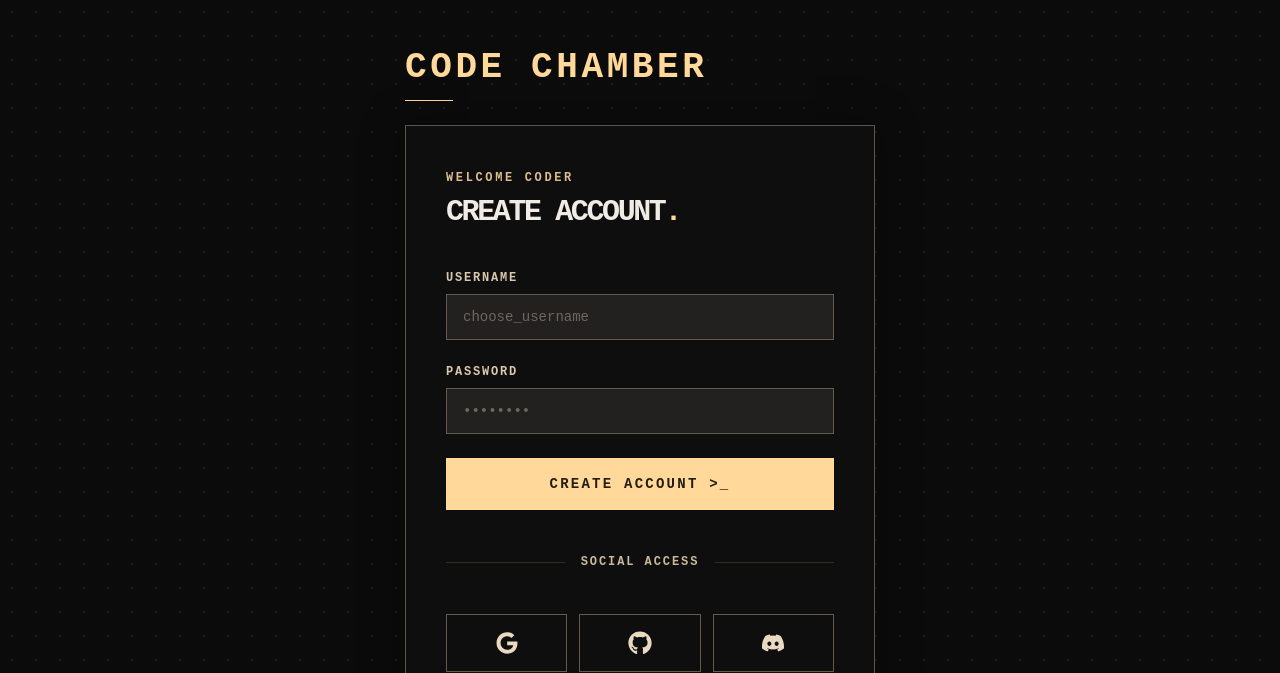
Scenario: Signup - manual submit › shows the server error message when signUp.email returns an error
Type "alice" into the field with placeholder "choose_username" at [640, 317], box [446,294,834,340]
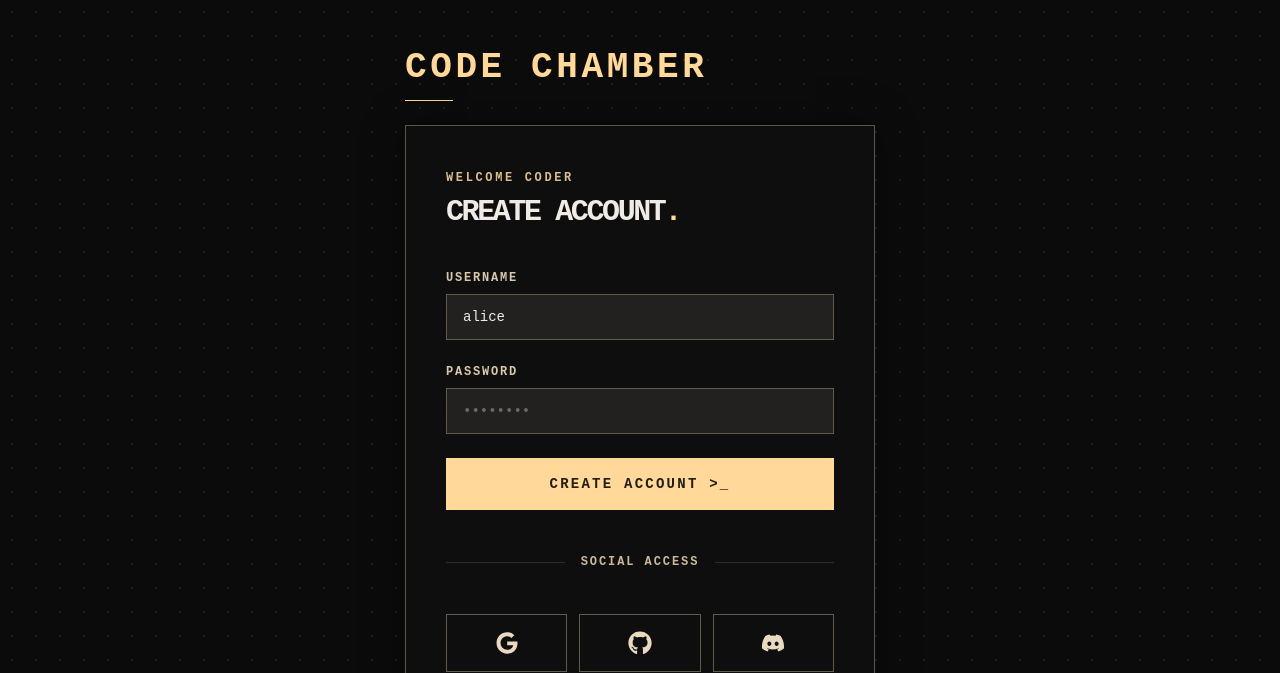
Type "hunter2" into the password field with placeholder "••••••••" at [640, 411], box [446,388,834,434]
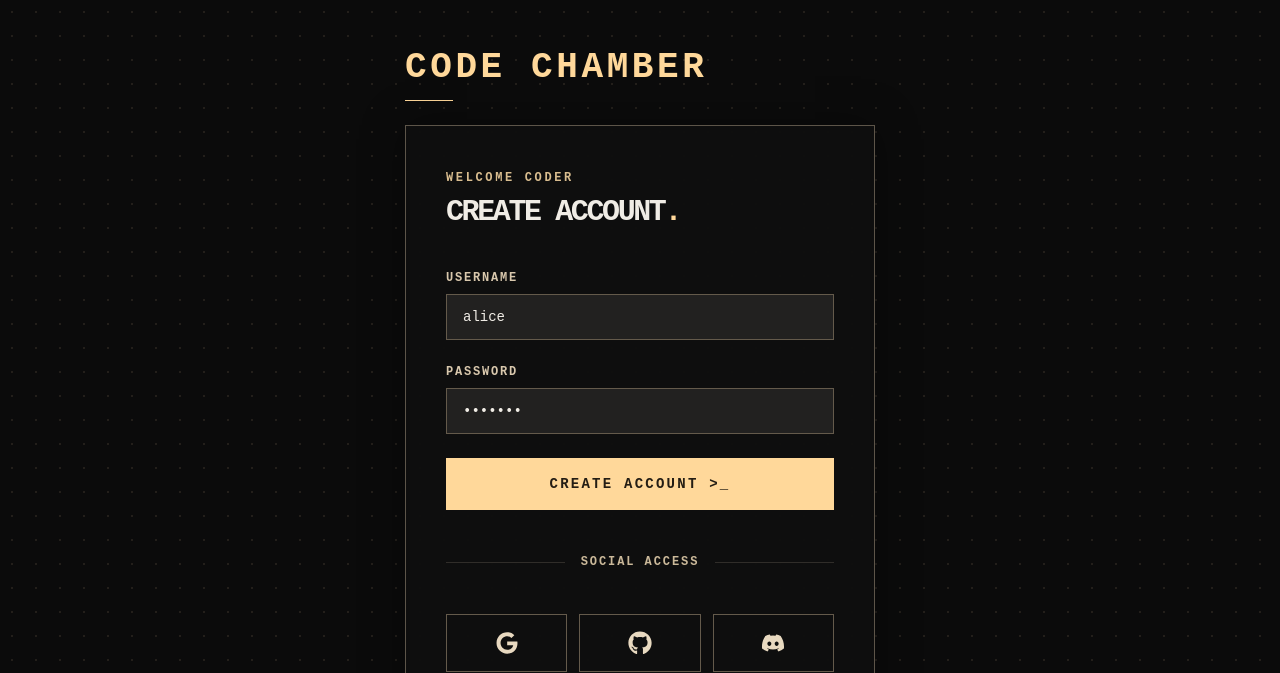
Click the button "CREATE ACCOUNT >_" at [640, 484], box [446,458,834,510]
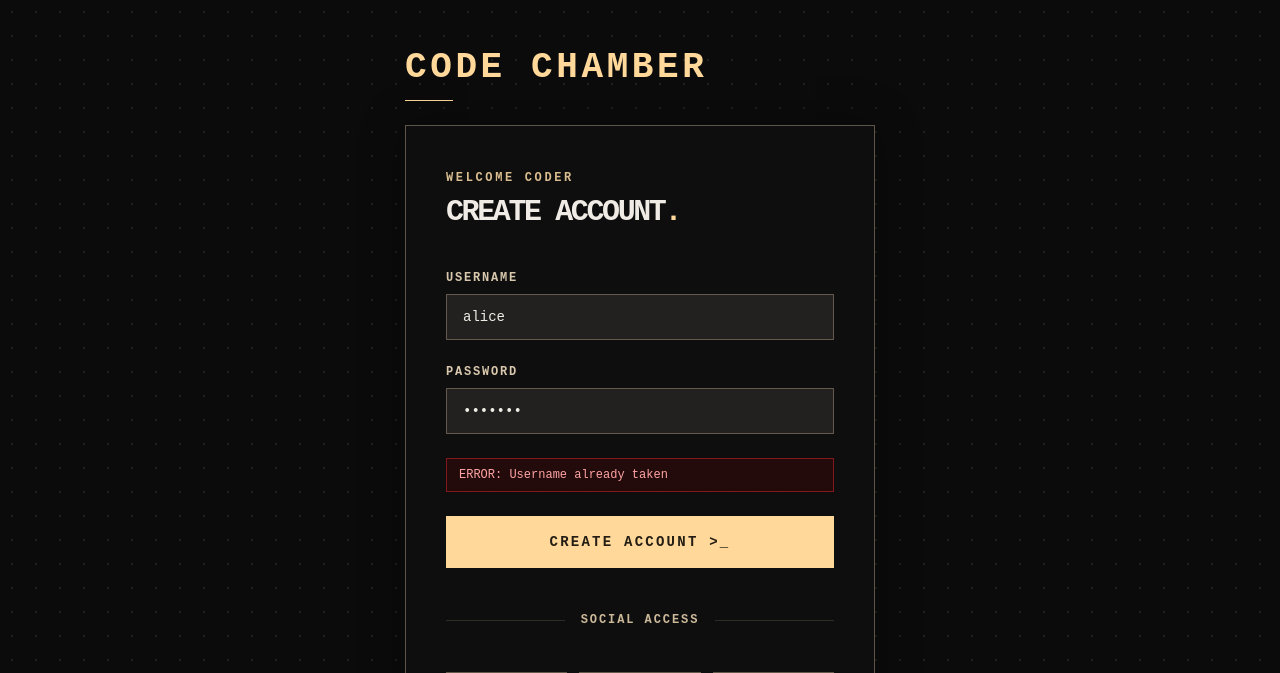
Expected: the button "CREATE ACCOUNT >_" is enabled, [446,516,834,568]
Expected: the text "ERROR: Username already taken" is shown, [446,458,834,492]
